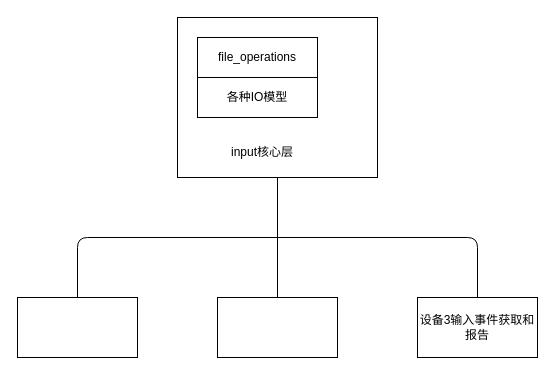
Image size: 555x375. Some labels were removed from this diagram. Here are the shapes that lost their labels. From the top down, the centre of each, then its label:
At point 77,327: "设备1输入事件获取和报告".
At point 277,327: "设备2输入事件获取和报告".
